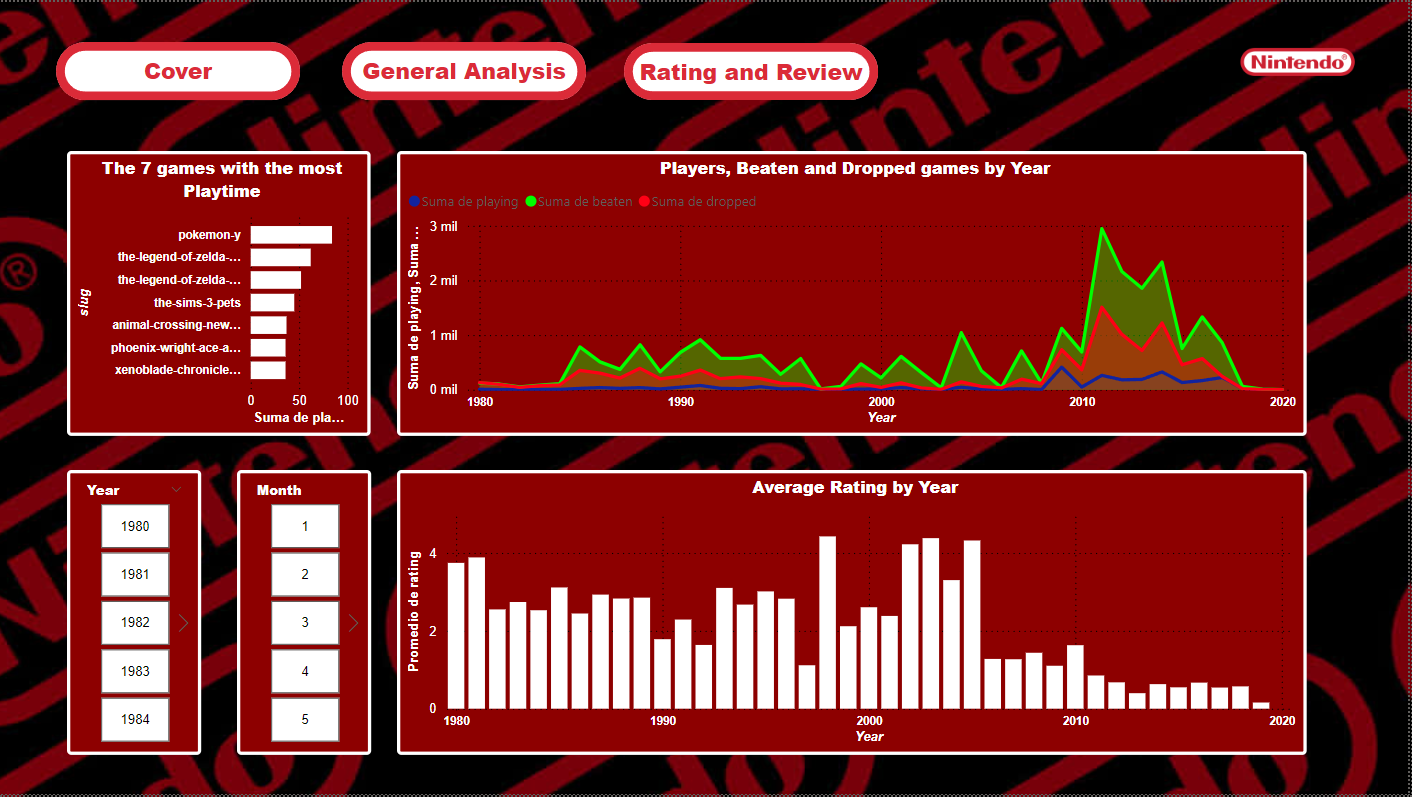

The dashboard page shown, as its layout file describes it:
{"tool":"powerbi","page":{"name":"Progress and time","canvas":[1280,720],"ordinal":2},"visuals":[{"type":"image","box":[1078,0,202,108],"z":0},{"type":"areaChart","title":"Players, Beaten and Dropped games by Year","fields":{"Category":["Calendario.Year"],"Y":["Sum(GAME_STATS.playing)","Sum(GAME_STATS.beaten)","Sum(GAME_STATS.dropped)"]},"box":[421.7,135.2,766.5,258.6],"z":1000},{"type":"actionButton","box":[313.1,37.1,231.2,51.8],"z":3000},{"type":"actionButton","box":[61.2,37.1,221.7,52.6],"z":4000},{"type":"barChart","title":"The 7 games with the most Playtime","fields":{"Y":["Sum(GAME_STATS.playtime)"],"Category":["GAMES.slug"]},"box":[60.8,134.2,333.3,259.2],"z":5000},{"type":"columnChart","title":"Average Rating by Year","fields":{"Category":["Calendario.Year"],"Y":["Avg(RATINGS.rating)"]},"box":[361,425,827,259],"z":6000},{"type":"slicer","fields":{"Values":["Calendario.Year"]},"box":[60.9,425.5,276.4,115.5],"z":7000},{"type":"slicer","fields":{"Values":["Calendario.Month"]},"box":[60.9,568.2,276.4,116.4],"z":8000}]}

Visuals, with their boxes in screenshot pixels (x1, y1, x2, y2), scaled from the page's 1280x720 canvas onto the 1412x797 screenshot:
image: bbox=[1189, 0, 1411, 120]
"Players, Beaten and Dropped games by Year" areaChart: bbox=[465, 150, 1311, 436]
actionButton: bbox=[345, 41, 600, 98]
actionButton: bbox=[68, 41, 312, 99]
"The 7 games with the most Playtime" barChart: bbox=[67, 149, 435, 435]
"Average Rating by Year" columnChart: bbox=[398, 470, 1311, 757]
slicer - Calendario.Year: bbox=[67, 471, 372, 599]
slicer - Calendario.Month: bbox=[67, 629, 372, 758]
